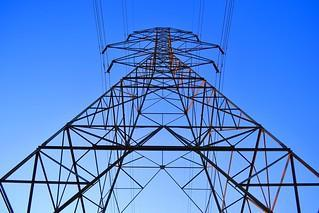power_tower: (1, 25, 319, 213)
